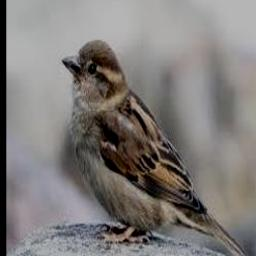Sparrow: (63, 40, 253, 256)
